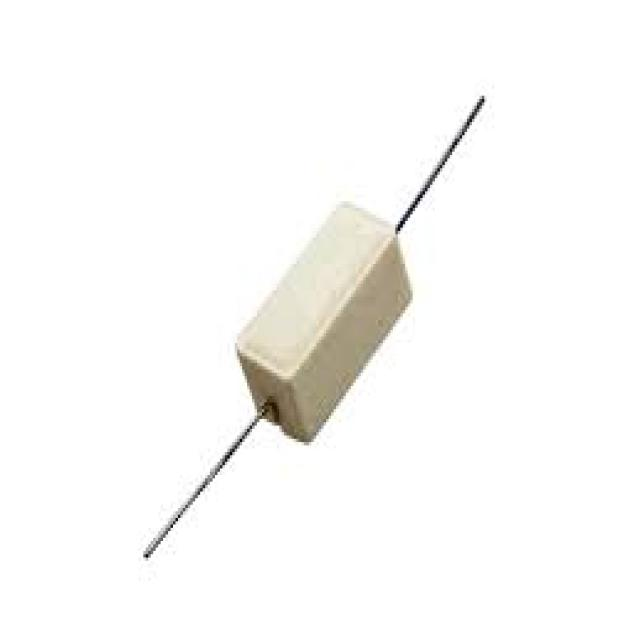Resistor: (234, 198, 415, 442)
